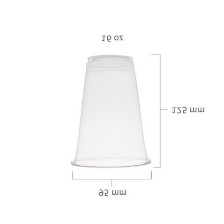glass: (63, 48, 164, 177)
